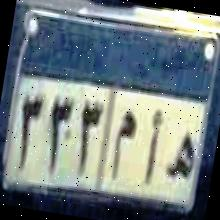3: (9, 88, 47, 175), (39, 89, 75, 180), (69, 96, 106, 181)
alif: (139, 106, 166, 189)
haa: (160, 124, 201, 194)
meem: (107, 103, 140, 184)
